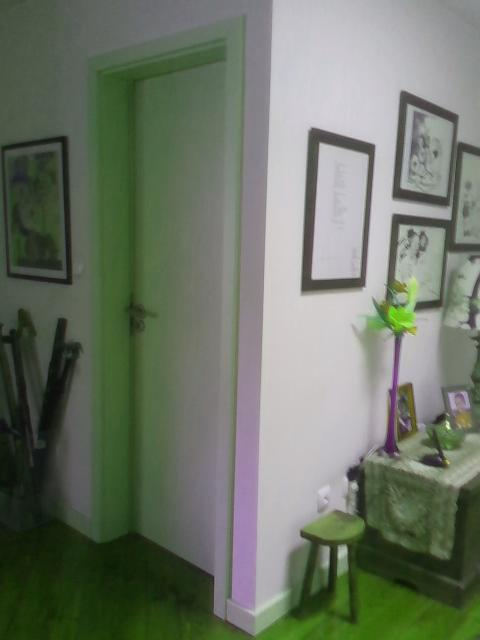closed_door: (87, 12, 246, 627)
